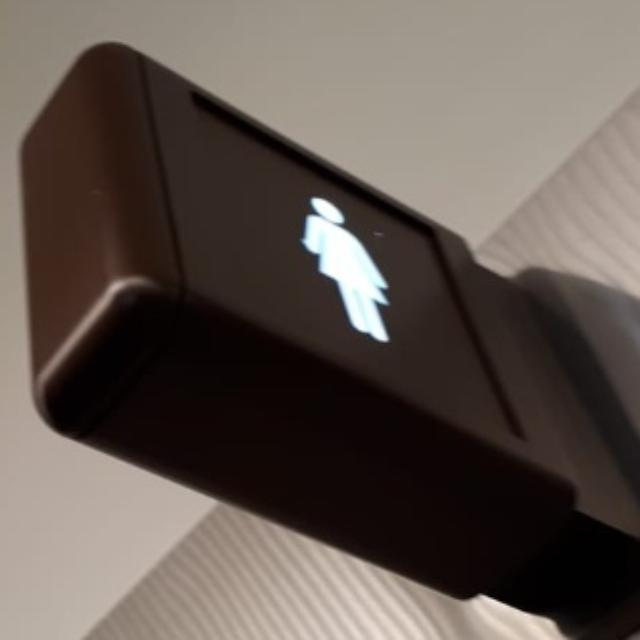wc nu: (148, 67, 506, 431)
